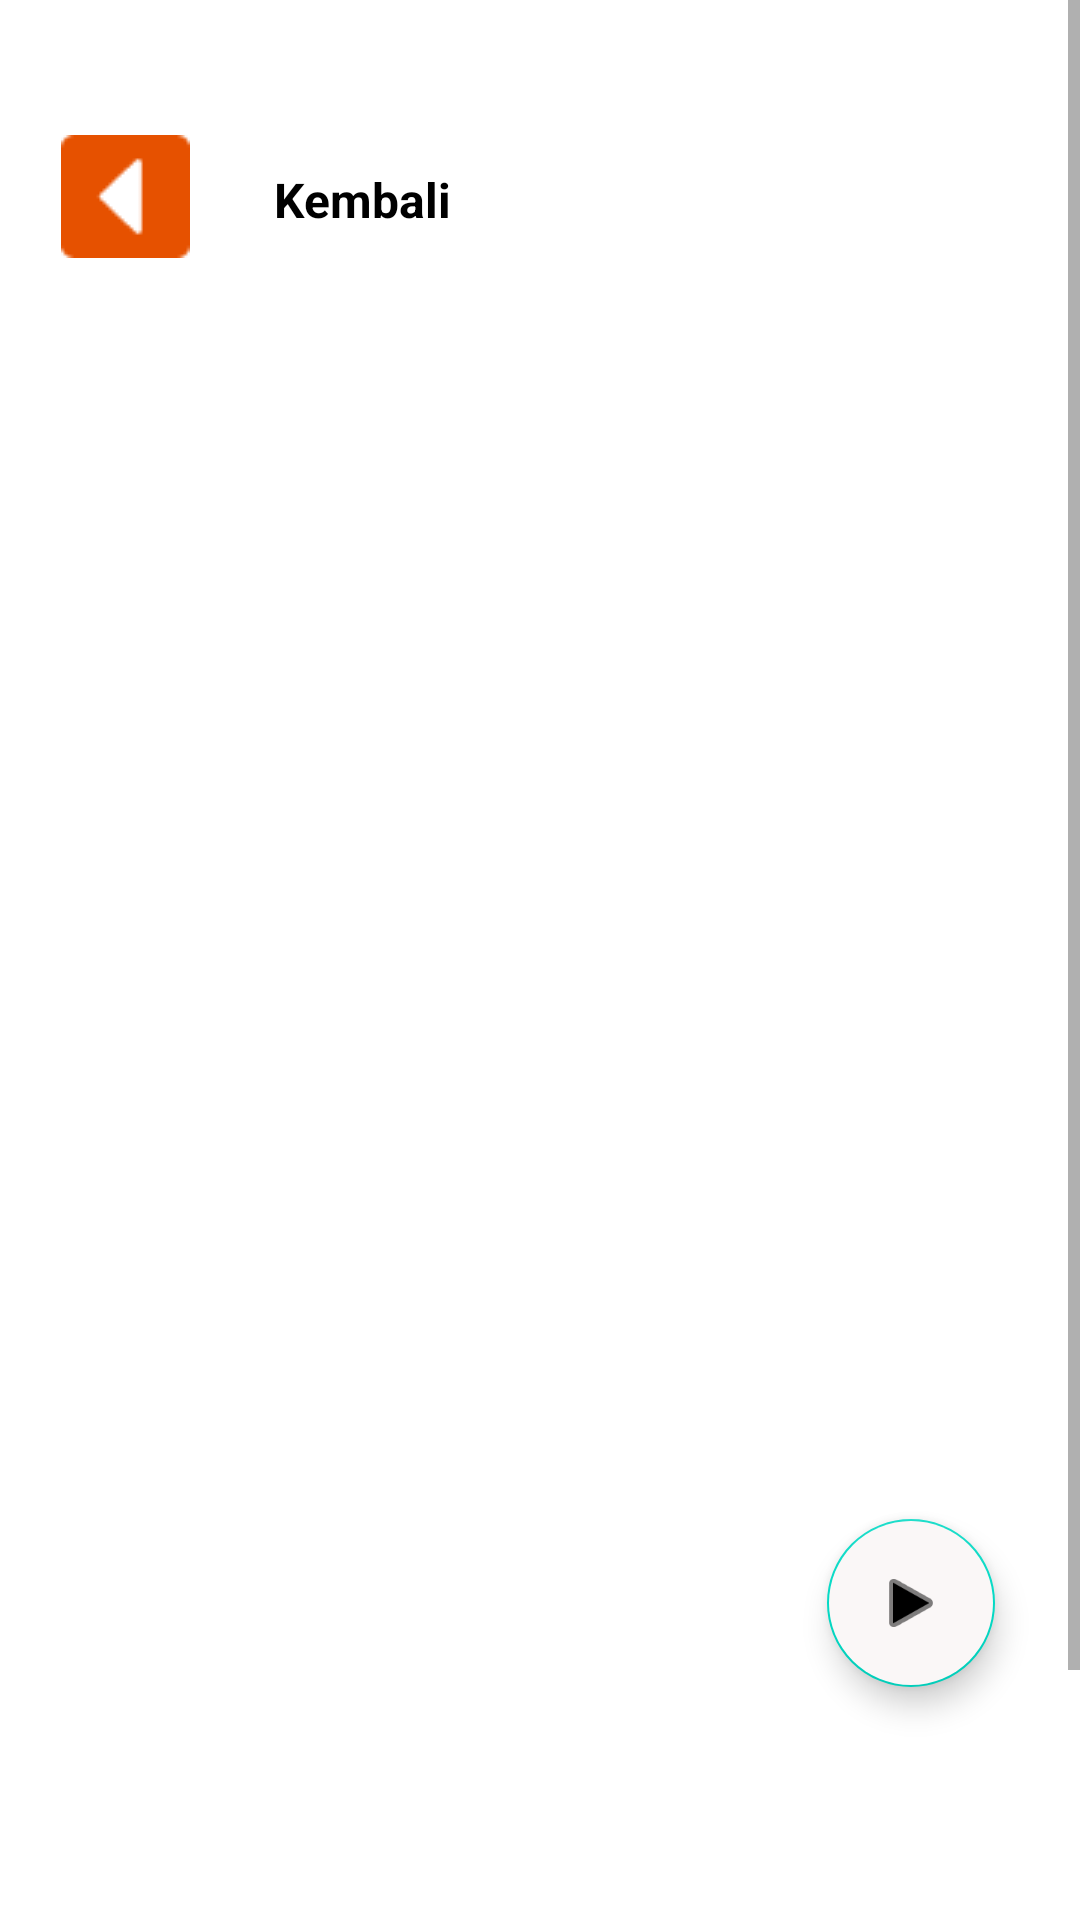

Named icons in this screenshot (1080x1920) and their bounding boxes, region(x1, y1, x2, y2):
back: region(61, 135, 190, 258)
play: region(827, 1519, 995, 1687)
